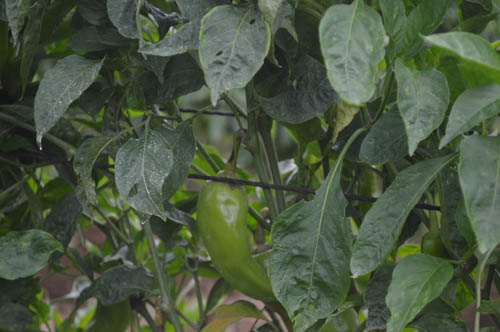ChiliPepper: (197, 182, 272, 298)
